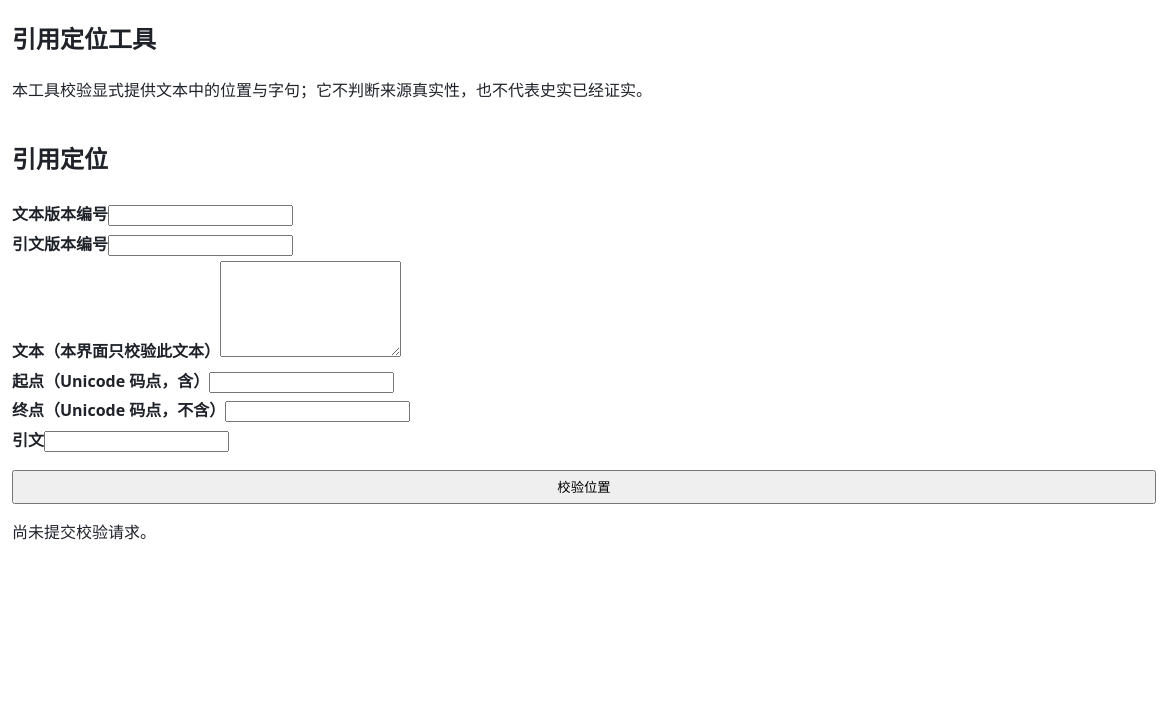
Test case: quote locate tool（工作台视图，当前不作为界面入口） › renders a readable error for a version mismatch instead of raw JSON
The width and height of the screenshot is (1164, 720).
Type "v1" into the field labelled "文本版本编号".
click(200, 216); type("v1")  # box [108,205,293,226]
Type "v2" into the field labelled "引文版本编号".
click(200, 245); type("v2")  # box [108,235,293,256]
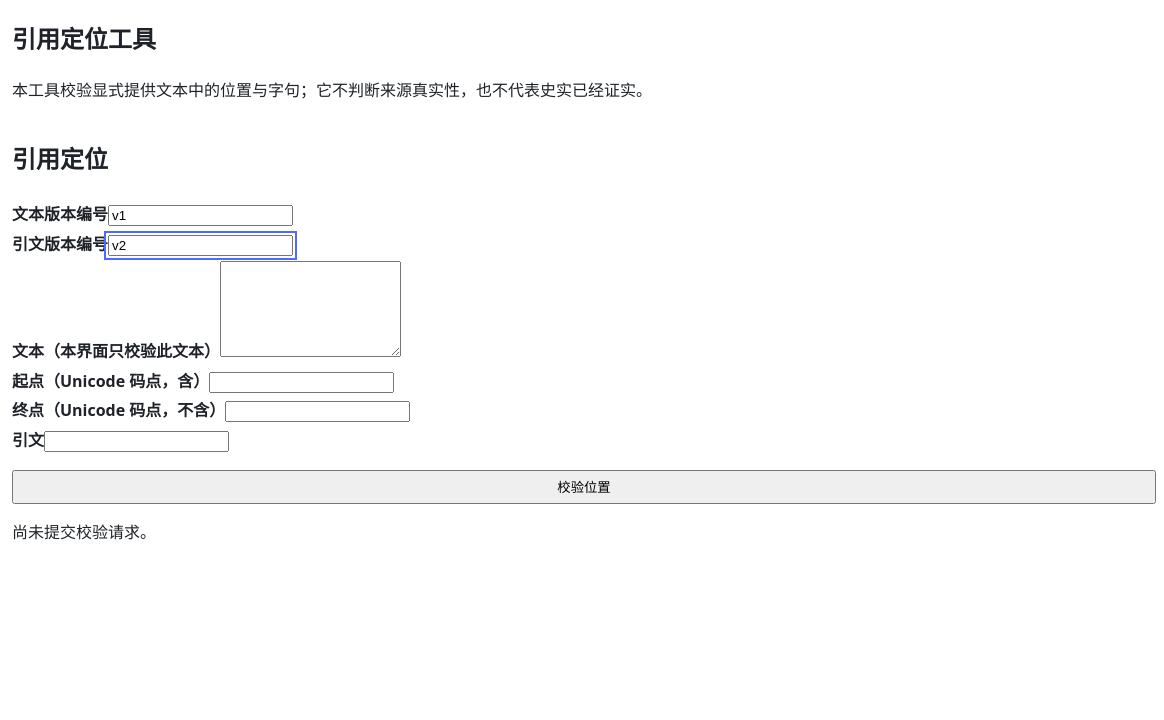
Type "甲𠀀乙" into the text box labelled "文本（本界面只校验此文本）".
click(310, 309); type("甲𠀀乙")  # box [220,261,401,357]
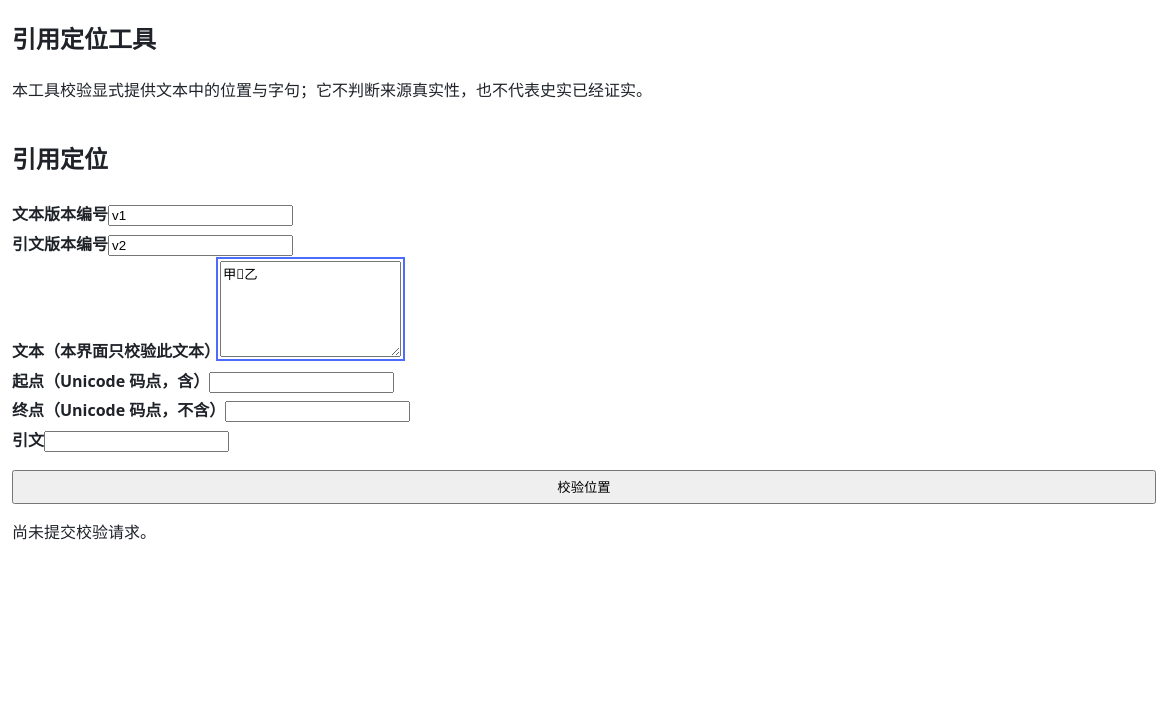
Type "1" into the field labelled "起点（Unicode 码点，含）".
click(302, 382); type("1")  # box [209,372,394,393]
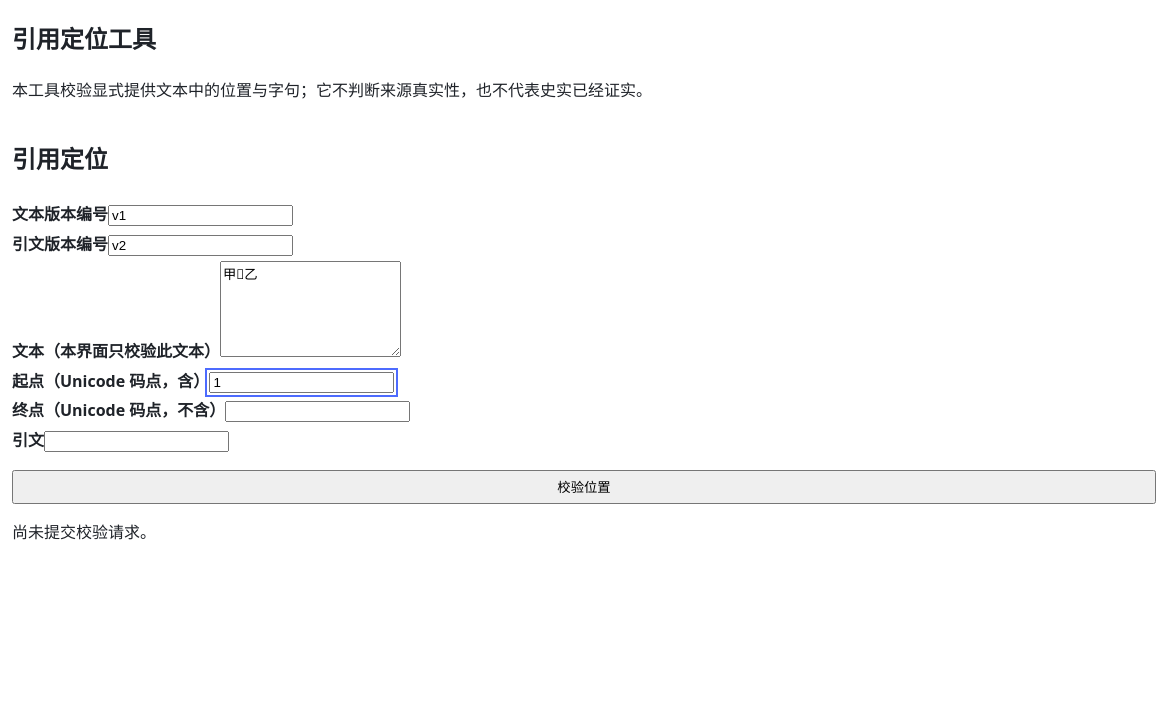
Type "2" into the field labelled "终点（Unicode 码点，不含）".
click(318, 412); type("2")  # box [225,401,410,422]
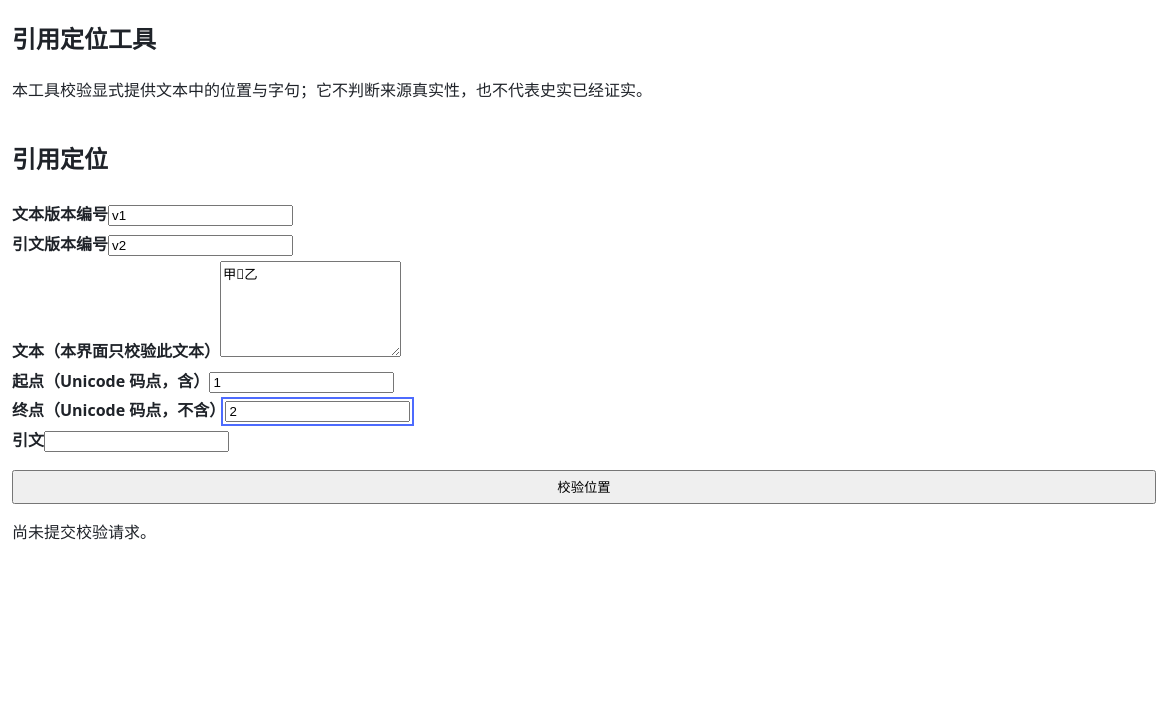
Type "𠀀" into the field labelled "引文".
click(136, 442); type("𠀀")  # box [44,431,229,452]
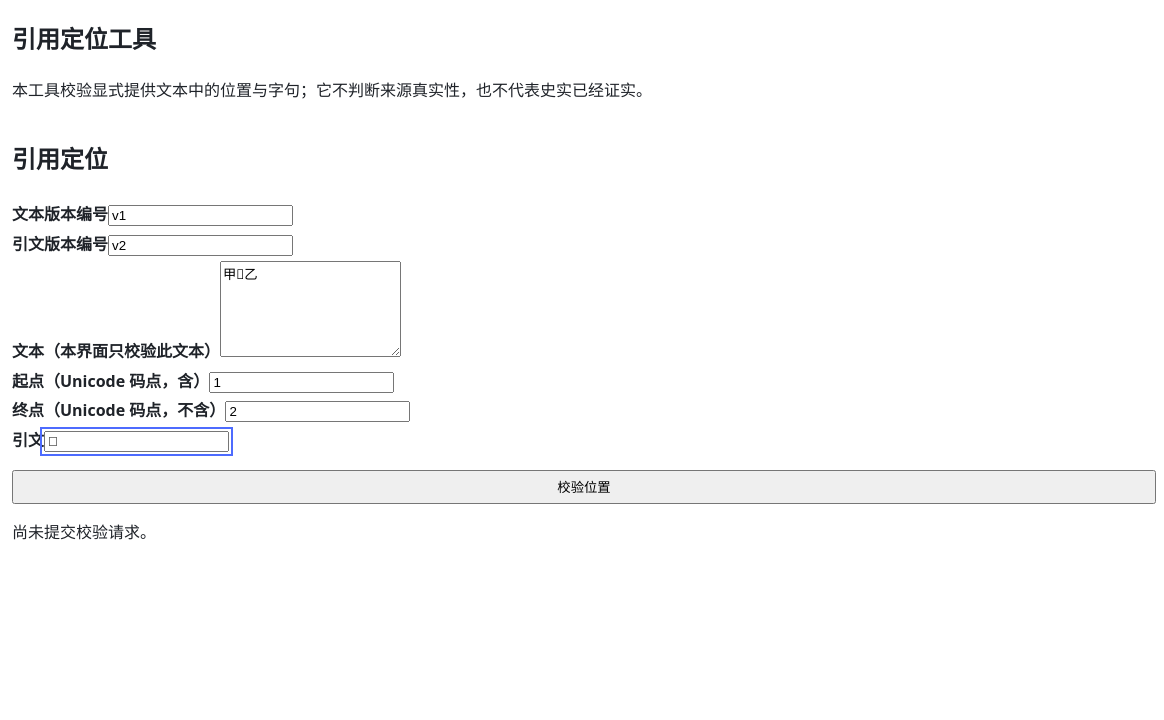
Click the button "校验位置".
click(584, 487)  # box [12,470,1156,504]
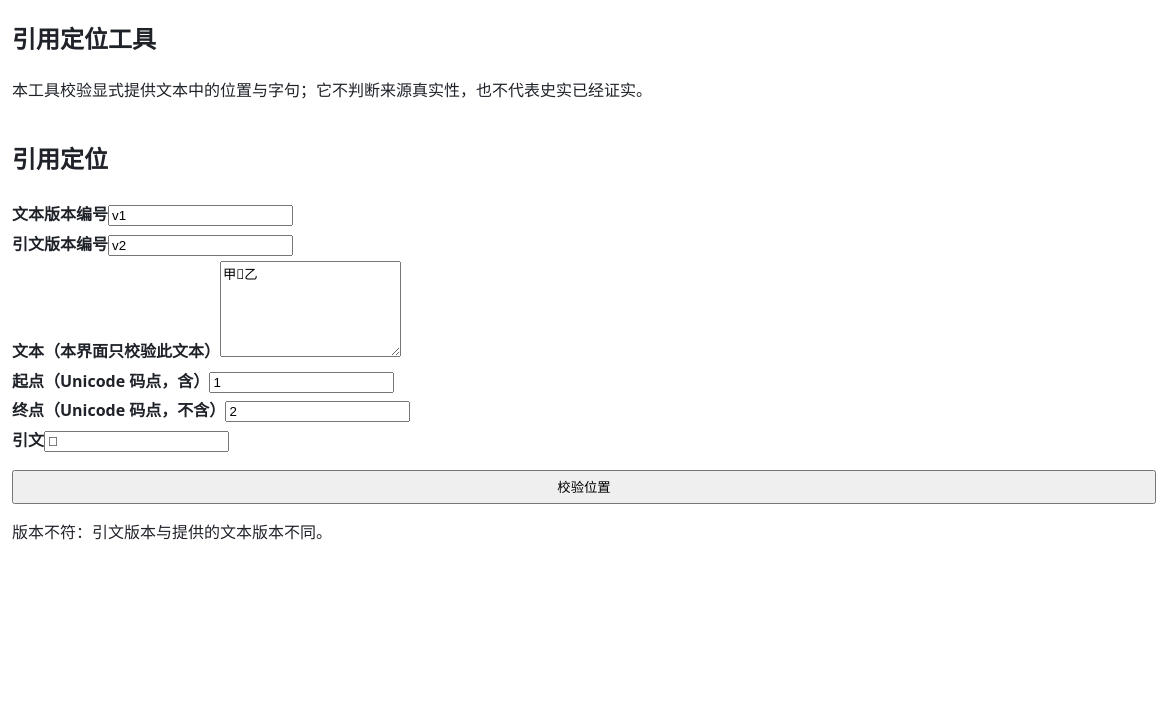
Check: the message with test id "locate-failure" shows "版本不符", box [12,521,332,543]
